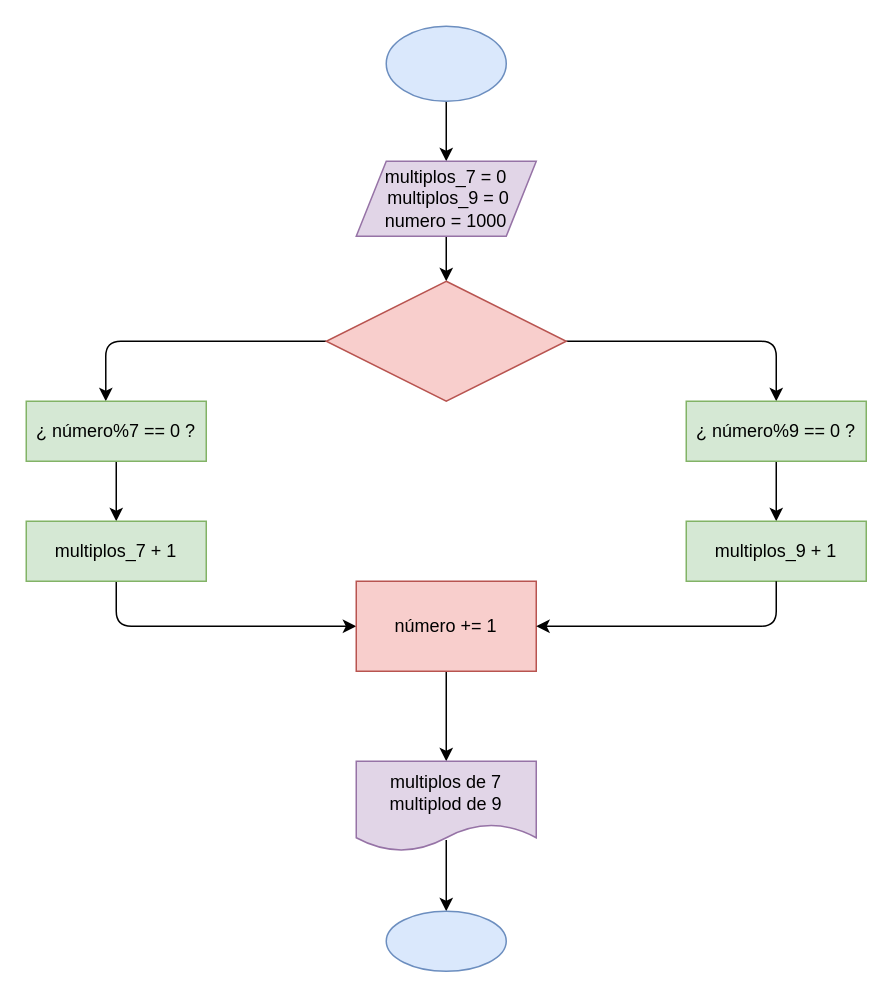
Image size: 893x998. Some labels were removed from this diagram. The shapes that lost their labels are listed below. From the top down, each one's centre as x and y in pixels, then its label:
At pixel 445 63: "INICIO".
At pixel 445 340: "¿ Númer < 5000 ?".
At pixel 445 940: "FIN".
